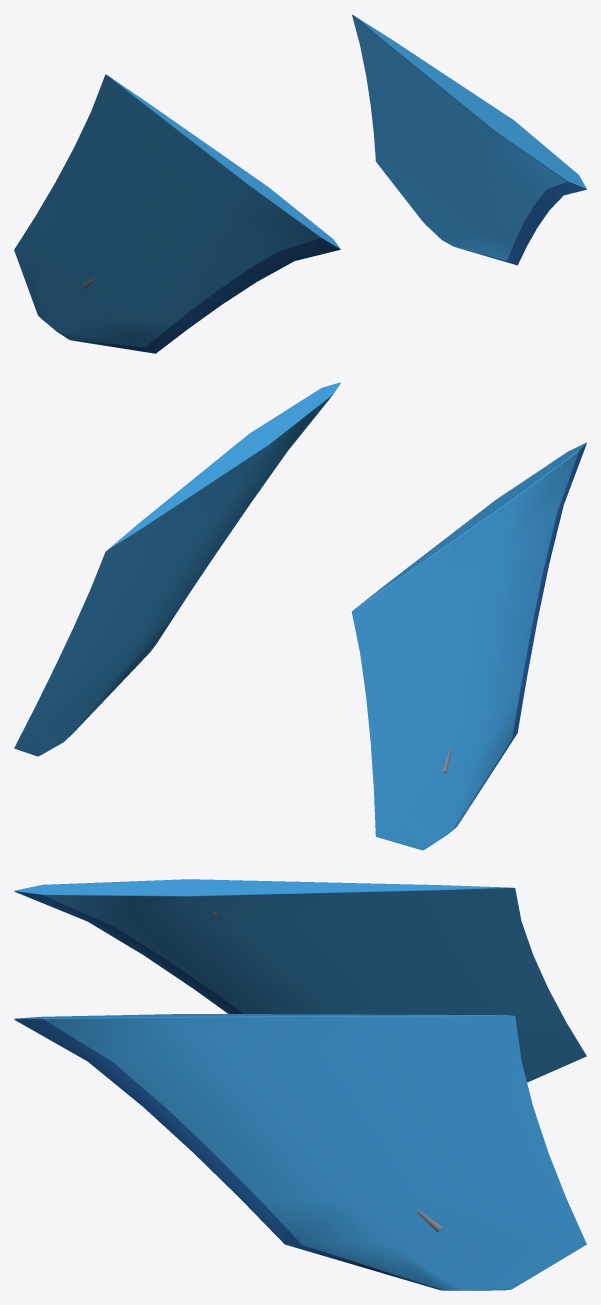
File: strix_tail_twin.fbx
3 views of the same model, one above another, from view 1: azimuth 30°, elevation 25°; view 2: azimuth 150°, elevation 25°; view 3: azimuth 270°, elevation 25° (orthographic). The views are drawn at different scales.
Parts seen in each view (by area): view 1: Tail_Twin; view 2: Tail_Twin; view 3: Tail_Twin.
Part boxes in pixels (bbox=[...]): Tail_Twin: bbox=[14, 14, 586, 353]; Tail_Twin: bbox=[14, 382, 586, 850]; Tail_Twin: bbox=[14, 879, 586, 1290].
Size of the model in its own units: 76.44 by 42.57 by 90.93.
